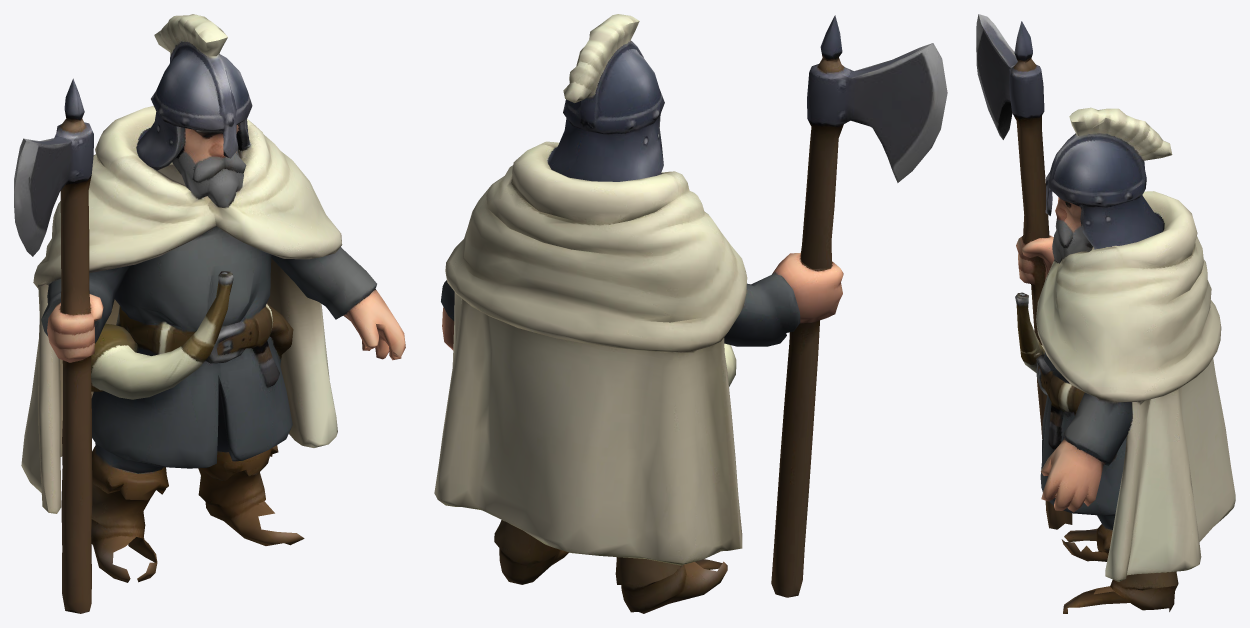
File: hold_captain_ready.glb
3 views of the same model, side by side, from view 1: azimuth 30°, elevation 25°; view 2: azimuth 150°, elevation 25°; view 3: azimuth 270°, elevation 25° (orthographic). The views are drawn at different scales.
Parts seen in each view (by area): view 1: world; view 2: world; view 3: world.
Boxes of the visible parts, x1,y1,x2,y2 form: world: [14, 14, 405, 613]; world: [434, 14, 947, 613]; world: [976, 14, 1235, 613].
Bounding box in the file's own units: 0.8243 × 0.9975 × 0.4752.
Materials: 1 (1 with a texture image).
